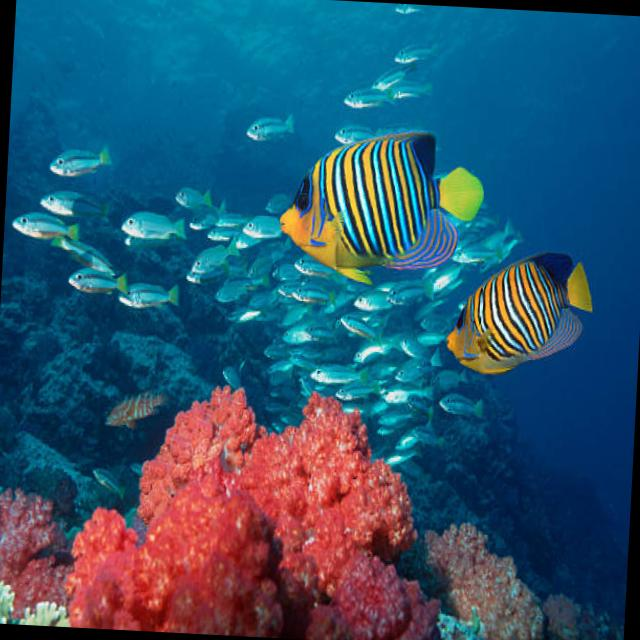AngelFish: (278, 130, 488, 286), (446, 245, 599, 382)
